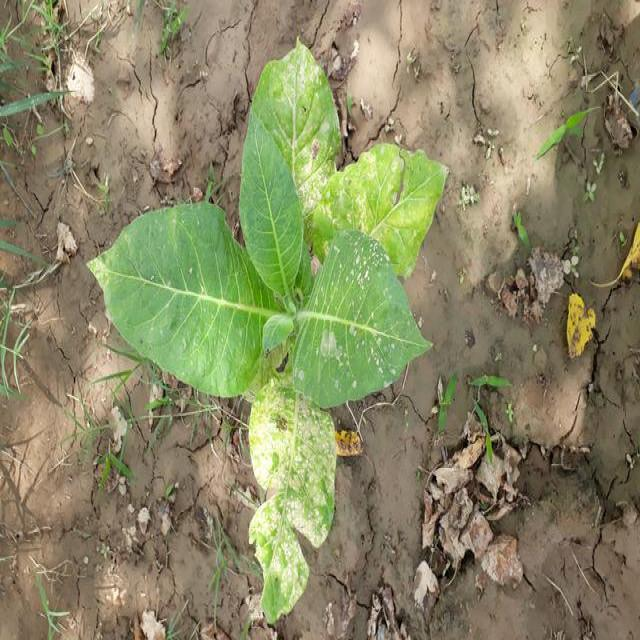crop: (105, 43, 442, 617)
